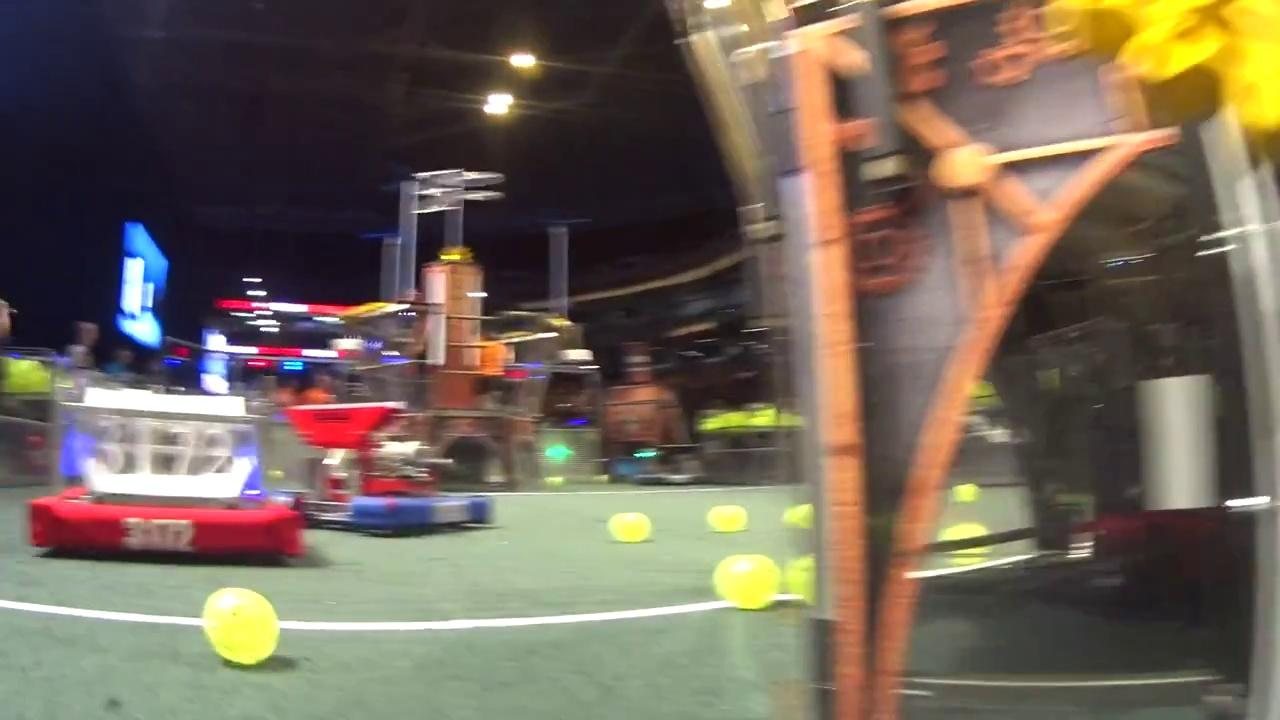robot: (24, 382, 304, 569), (278, 395, 496, 534)
